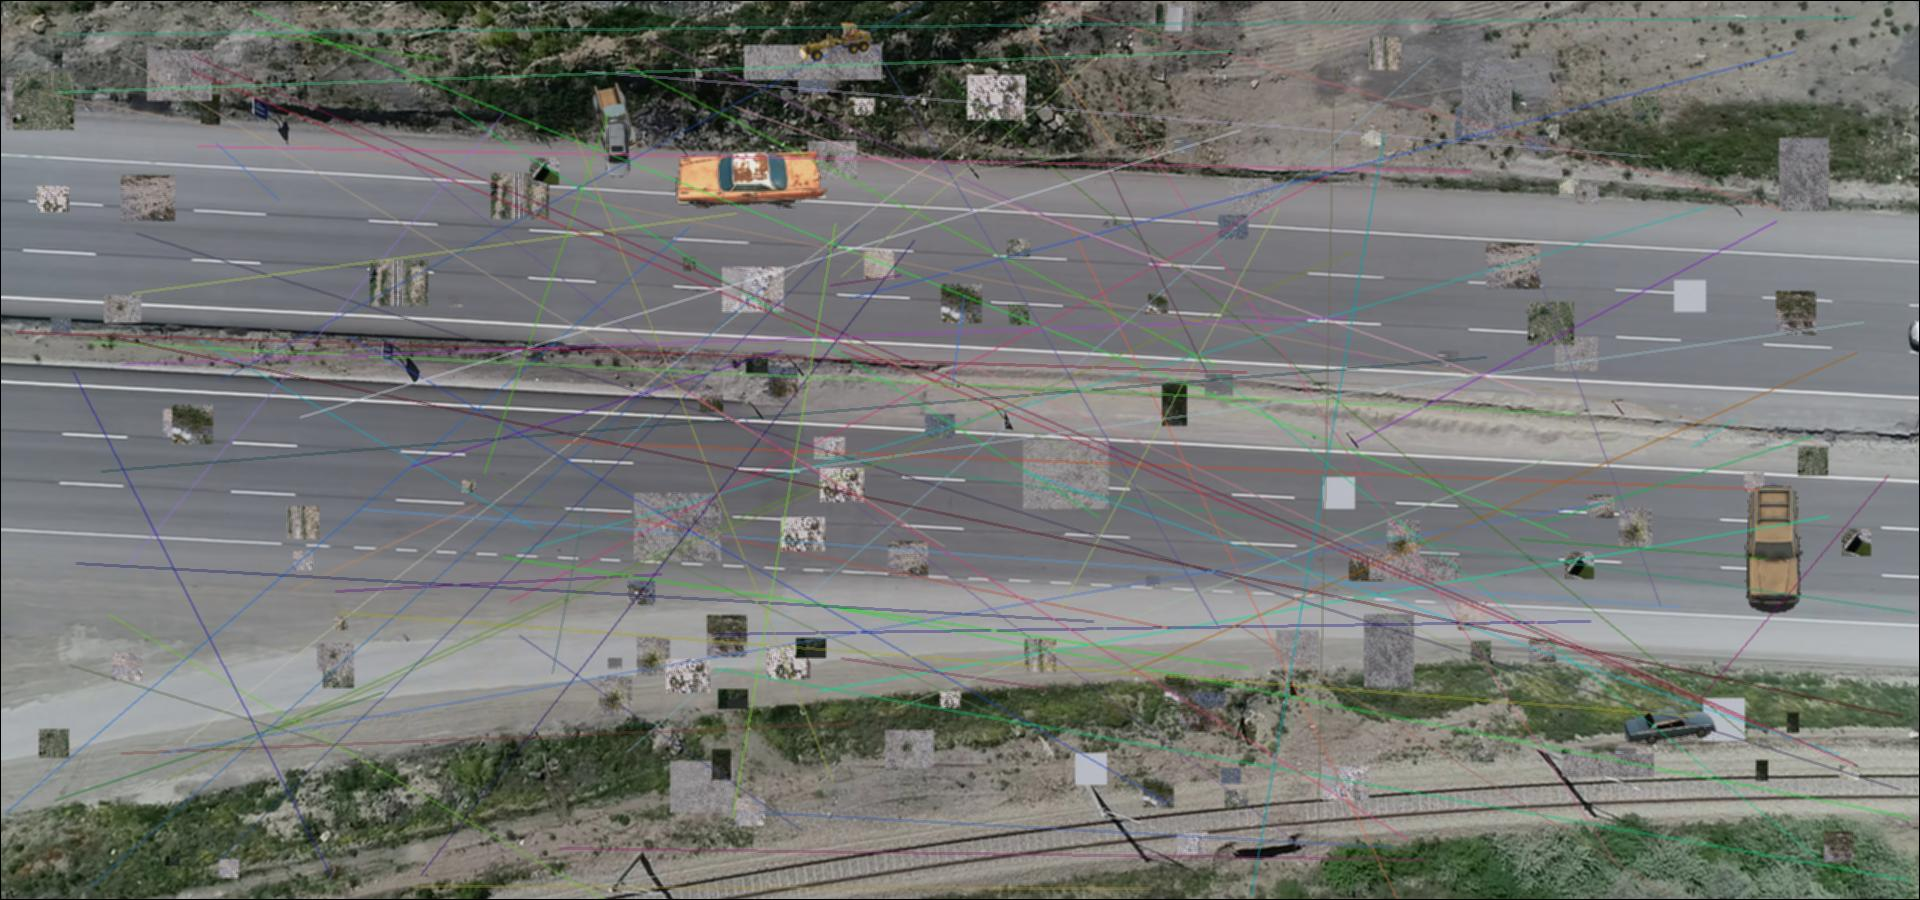arac: (670, 149, 845, 208), (1742, 482, 1806, 613), (1621, 708, 1719, 744), (588, 83, 638, 153), (797, 22, 876, 62), (602, 119, 632, 178)
